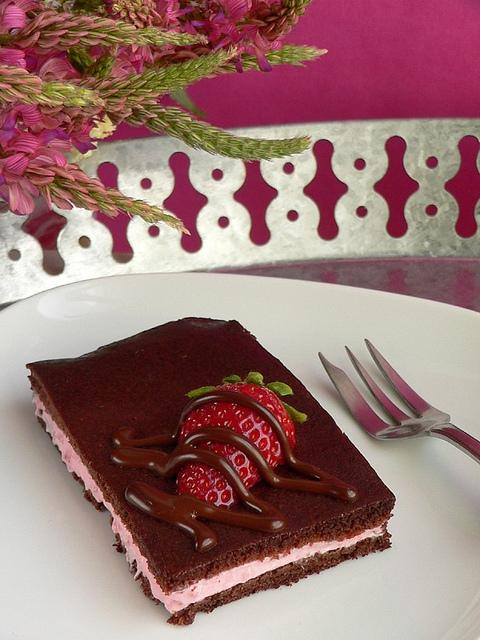strawberry: (174, 372, 308, 510)
